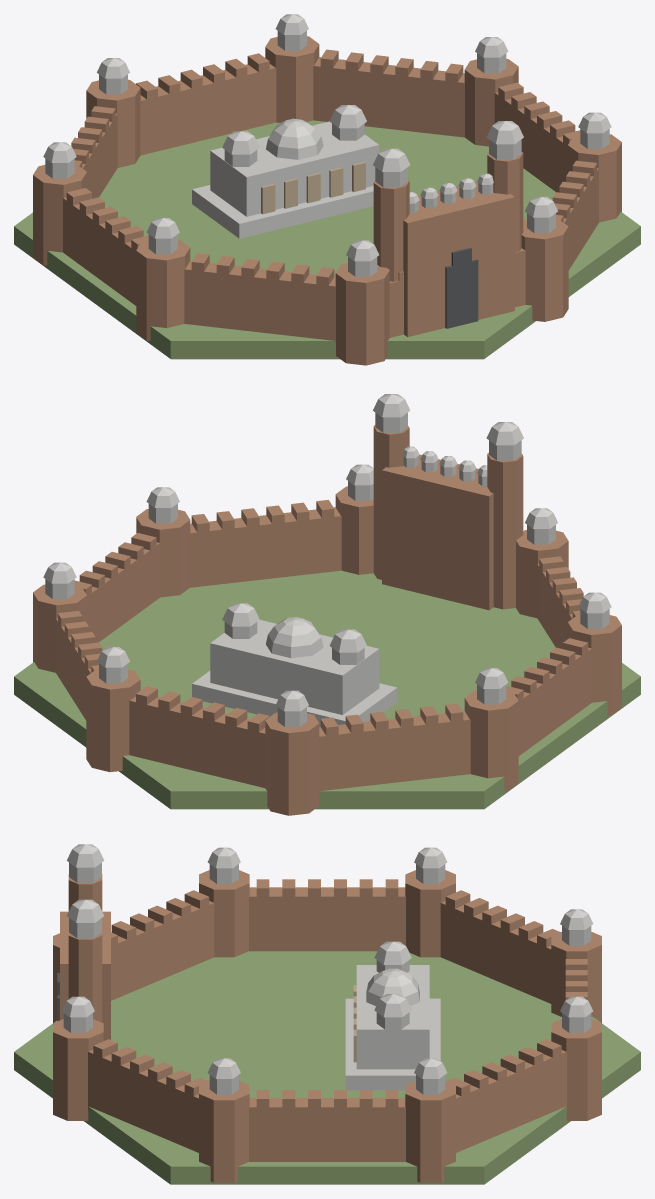
File: red-fort.glb
The picture shows the model from 3 angles, top to bottom: view 1: azimuth 30°, elevation 25°; view 2: azimuth 150°, elevation 25°; view 3: azimuth 270°, elevation 25°; orthographic projection.
Visible parts, largest first — view 1: LOD0; view 2: LOD0; view 3: LOD0.
Part boxes in pixels (x1=…): LOD0: x1=14, y1=14, x2=640, y2=365; LOD0: x1=14, y1=394, x2=640, y2=815; LOD0: x1=14, y1=844, x2=640, y2=1184.
Size of what is drawn, in the model's own units: 1.51 by 0.5995 by 1.72.
